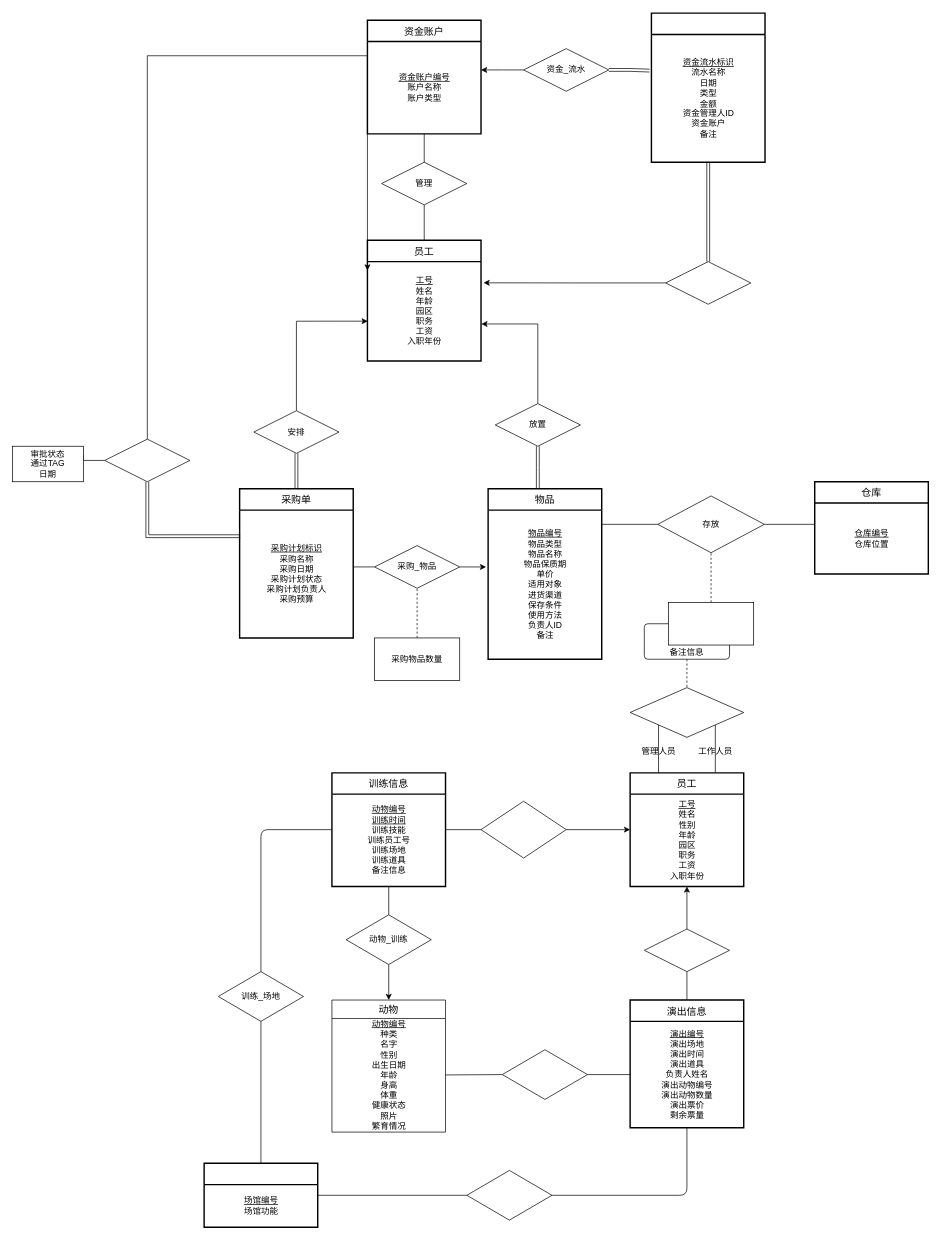
Image size: 941x1240. Some labels were removed from this diagram. The shapes that lost their labels are listed below. From the top down, each one's box as (x1, y1, x2, y2) in pixels, then its label:
(650, 12, 765, 163): 资金流动
(665, 261, 751, 304): 记录
(104, 438, 190, 482): 审批
(668, 602, 754, 645): 物品库存
(629, 687, 744, 737): 考核
(480, 801, 566, 858): 员工_训练
(644, 928, 730, 972): 演出_负责
(502, 1049, 588, 1099): 参演
(203, 1162, 318, 1228): 功能性场馆
(466, 1170, 552, 1220): 演出_场地
